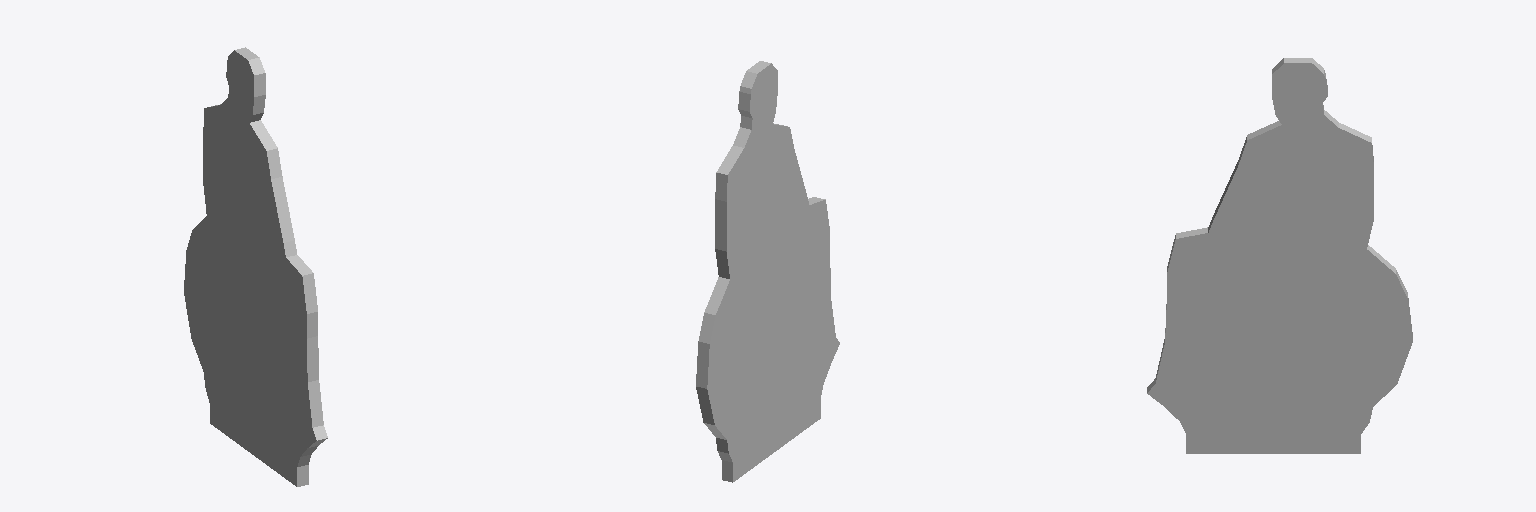
The model's file is Outline_Wheelchair_Geo.obj.
3 views of the same model, side by side, from view 1: azimuth 30°, elevation 25°; view 2: azimuth 150°, elevation 25°; view 3: azimuth 270°, elevation 25° (orthographic).
Visible parts, largest first — view 1: Characters_Wheelchair_Geo:pCube1; view 2: Characters_Wheelchair_Geo:pCube1; view 3: Characters_Wheelchair_Geo:pCube1.
Boxes of the visible parts, <box> form: Characters_Wheelchair_Geo:pCube1: <box>184,47,327,486</box>; Characters_Wheelchair_Geo:pCube1: <box>696,61,839,482</box>; Characters_Wheelchair_Geo:pCube1: <box>1147,58,1412,453</box>.
Bounding box in the file's own units: 0.0486 × 1.58 × 0.9758.